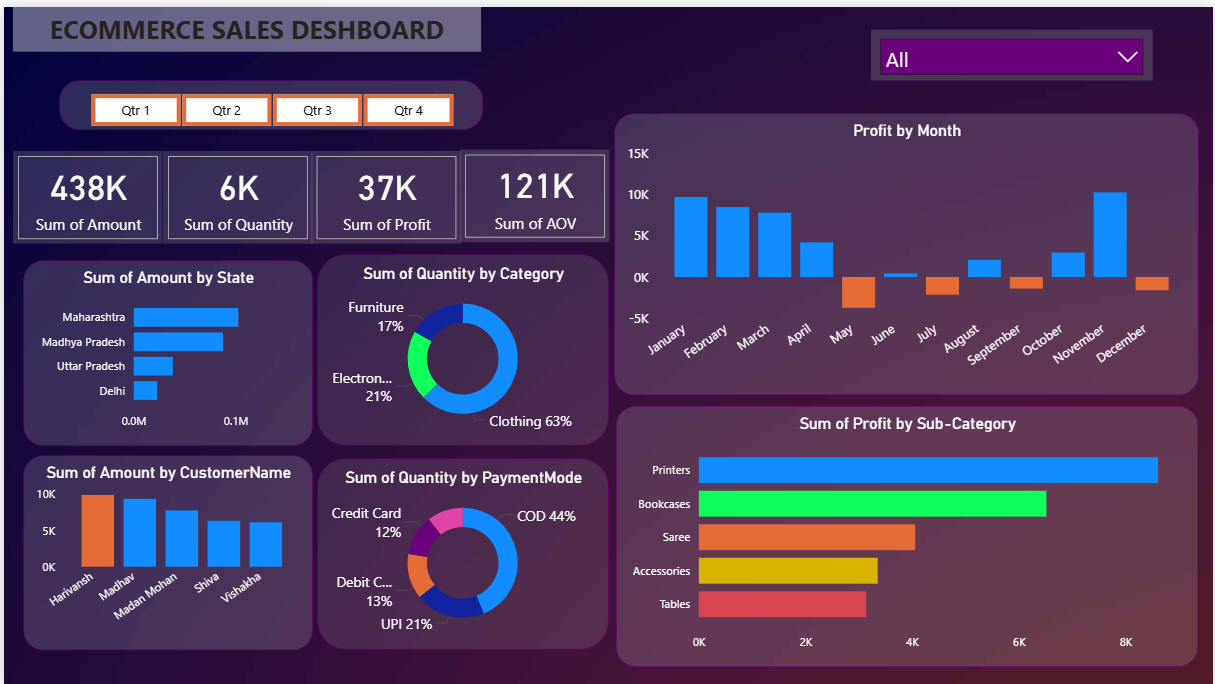

The dashboard page shown, as its layout file describes it:
{"tool":"powerbi","page":{"name":"Page 1","canvas":[1280,720],"ordinal":0},"visuals":[{"type":"textbox","box":[10,0,495,47.5],"z":0},{"type":"columnChart","title":"Profit by Month","fields":{"Category":["Orders.Order Date.Variation.Date Hierarchy.Month"],"Y":["Details.Profit"]},"box":[646,112,618,298],"z":1000},{"type":"barChart","fields":{"Category":["Details.Sub-Category"],"Y":["Details.Profit"]},"box":[648,422,616,276],"z":2000},{"type":"donutChart","fields":{"Y":["Details.Quantity"],"Category":["Details.Category"]},"box":[332,262,308,202],"z":3000},{"type":"donutChart","fields":{"Y":["Details.Quantity"],"Category":["Details.PaymentMode"]},"box":[332,478,308,202],"z":4000},{"type":"cardVisual","fields":{"Data":["Details.Amount"]},"box":[10,152,158,98],"z":5000},{"type":"cardVisual","fields":{"Data":["Details.Quantity"]},"box":[168,152,158,98],"z":6000},{"type":"cardVisual","fields":{"Data":["Details.Profit"]},"box":[326,152,158,98],"z":7000},{"type":"cardVisual","fields":{"Data":["Details.AOV"]},"box":[482,150,158,98],"z":8000},{"type":"barChart","fields":{"Y":["Details.Amount"],"Category":["Orders.State"]},"box":[20,268,306,196],"z":9000},{"type":"columnChart","fields":{"Category":["Orders.CustomerName"],"Y":["Details.Amount"]},"box":[20,474,306,206],"z":10000},{"type":"slicer","fields":{"Values":["Orders.Order Date.Variation.Date Hierarchy.Quarter"]},"box":[58,78,448,52],"z":11000},{"type":"slicer","fields":{"Values":["Orders.State"]},"box":[918,24,298,54],"z":12000}]}

Visuals, with their boxes in screenshot pixels (x1, y1, x2, y2), scaled from the page's 1280x720 canvas onto the 1215x684 screenshot:
textbox: (9,0,479,45)
"Profit by Month" columnChart: (613,106,1200,390)
barChart - Details.Sub-Category x Details.Profit: (615,401,1200,663)
donutChart - Details.Quantity x Details.Category: (315,249,608,441)
donutChart - Details.Quantity x Details.PaymentMode: (315,454,608,646)
cardVisual - Details.Amount: (9,144,159,238)
cardVisual - Details.Quantity: (159,144,309,238)
cardVisual - Details.Profit: (309,144,459,238)
cardVisual - Details.AOV: (458,142,608,236)
barChart - Details.Amount x Orders.State: (19,255,309,441)
columnChart - Orders.CustomerName x Details.Amount: (19,450,309,646)
slicer - Orders.Order Date.Variation.Date Hierarchy.Quarter: (55,74,480,124)
slicer - Orders.State: (871,23,1154,74)
